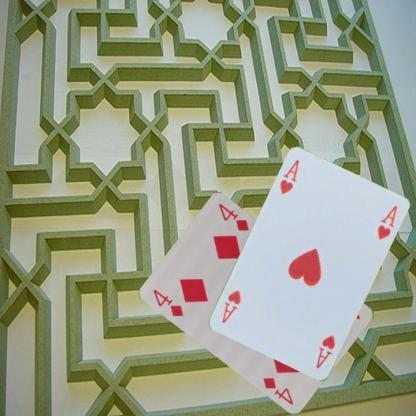4d: (151, 286, 185, 318)
Ah: (277, 157, 301, 196), (314, 333, 337, 370)
